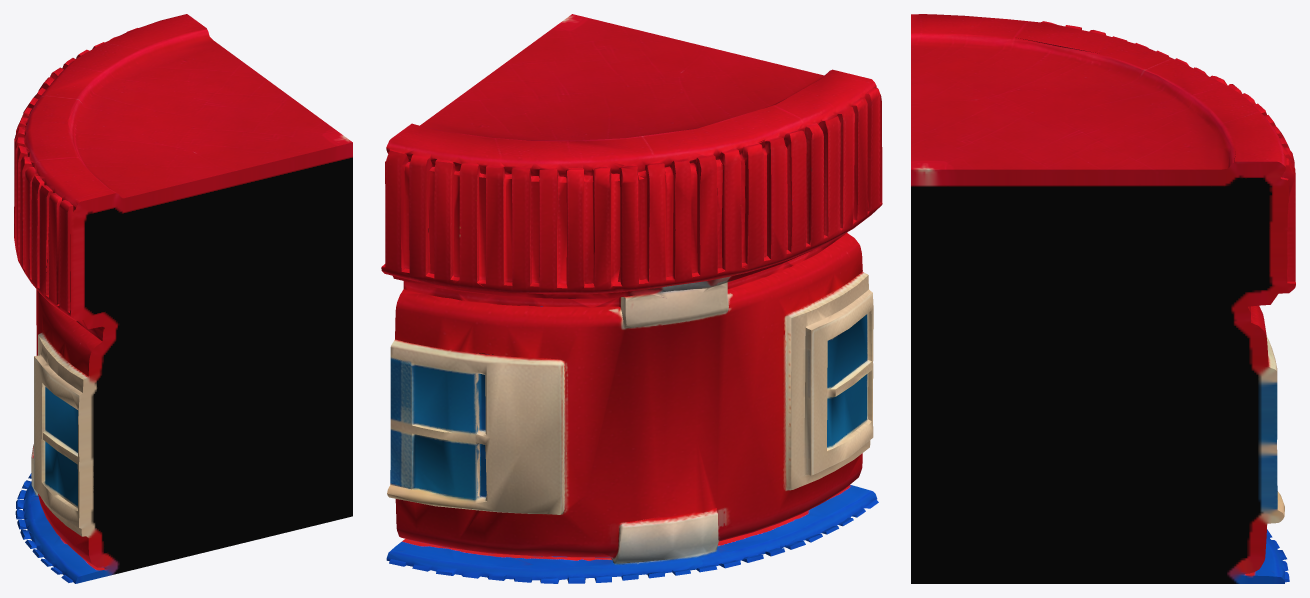
Rendered from 15-topper-back-left.fbx.
3 views of the same model, side by side, from view 1: azimuth 30°, elevation 25°; view 2: azimuth 150°, elevation 25°; view 3: azimuth 270°, elevation 25° (orthographic). The views are drawn at different scales.
Visible parts, largest first — view 1: topper-back-left; view 2: topper-back-left; view 3: topper-back-left.
Part boxes in pixels (box(x1,y1,x2,y2)): topper-back-left: box(14, 14, 352, 583); topper-back-left: box(381, 14, 882, 583); topper-back-left: box(911, 14, 1295, 583).
Bounding box in the file's own units: 4649 × 5982 × 4942.
Materials: 1 (1 with a texture image).
